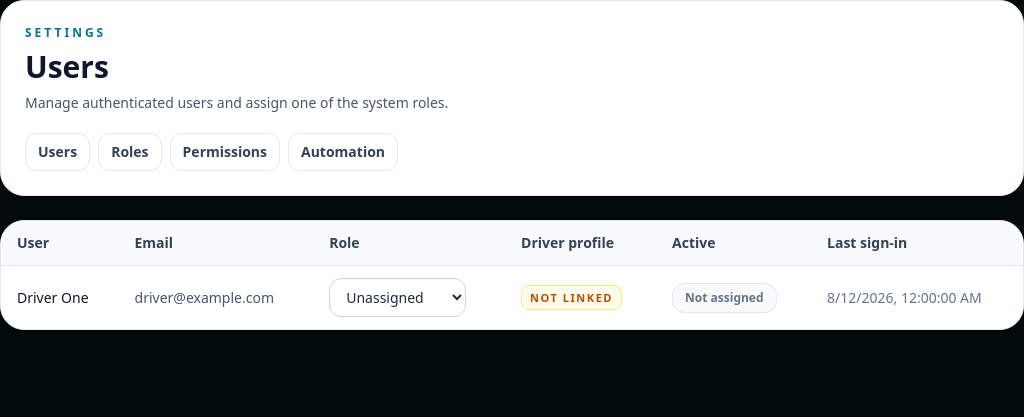
SettingsUsersPage › refreshes and shows a promoted driver role after assigning an unassigned user
The image size is (1024, 417).
Select "Driver" in the dropdown at (398, 298), box [329, 278, 466, 317]
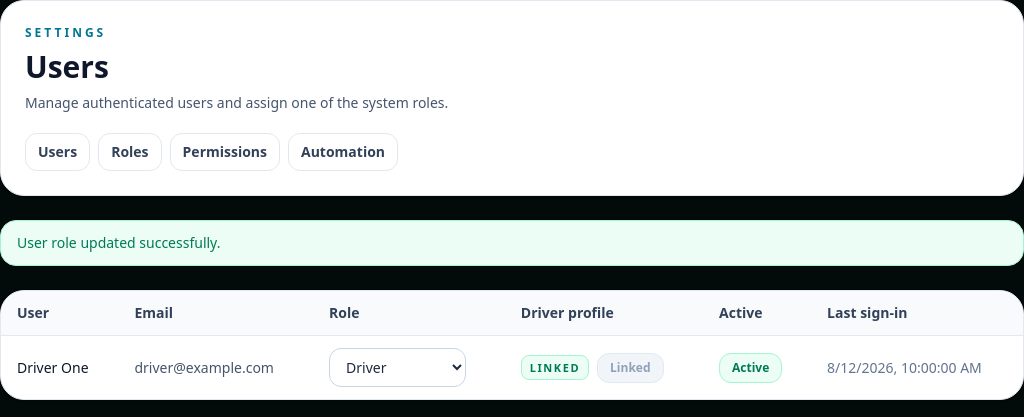
Expected: the text "User role updated successfully." is shown, [0, 220, 1023, 266]
